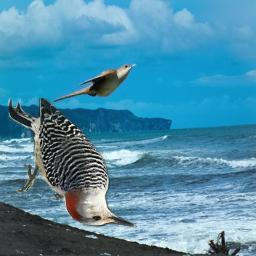Cuckoo: (52, 63, 137, 103)
Woodpecker: (8, 98, 137, 228)
